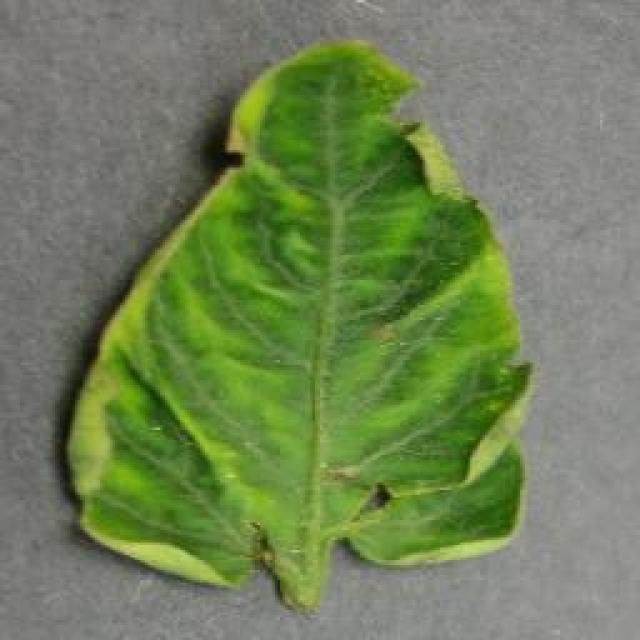Tomato yellow virus leaf: (66, 37, 534, 590)
